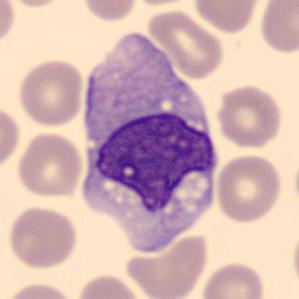Monocyte: (73, 18, 222, 259)
RBC: (144, 7, 227, 81), (124, 230, 211, 299), (214, 153, 284, 224), (16, 57, 86, 128), (5, 204, 80, 270), (15, 129, 85, 199), (213, 83, 285, 150), (200, 259, 268, 299), (191, 0, 262, 35), (256, 0, 299, 56), (75, 272, 145, 299), (0, 103, 22, 173), (3, 280, 79, 299), (80, 0, 140, 23), (0, 0, 17, 51), (289, 223, 299, 292), (3, 0, 69, 9), (125, 0, 197, 7), (292, 150, 299, 216)
